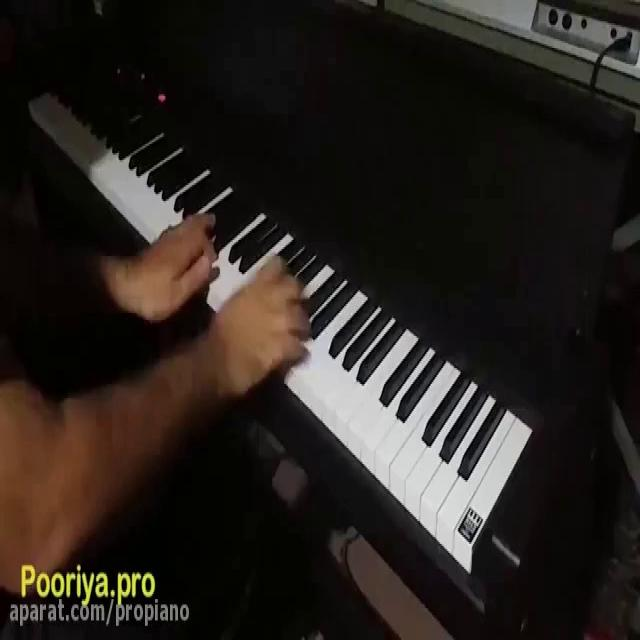Piano: (21, 31, 542, 594)
